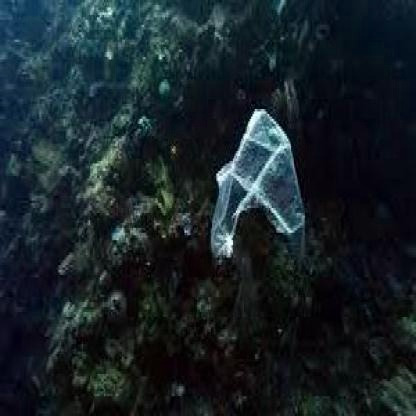pbag: (210, 106, 306, 265)
